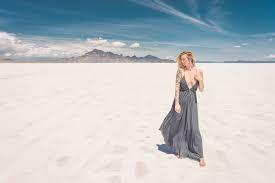FallenBody: (158, 50, 210, 170)
